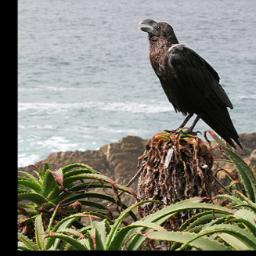Crow: (135, 17, 246, 152)
